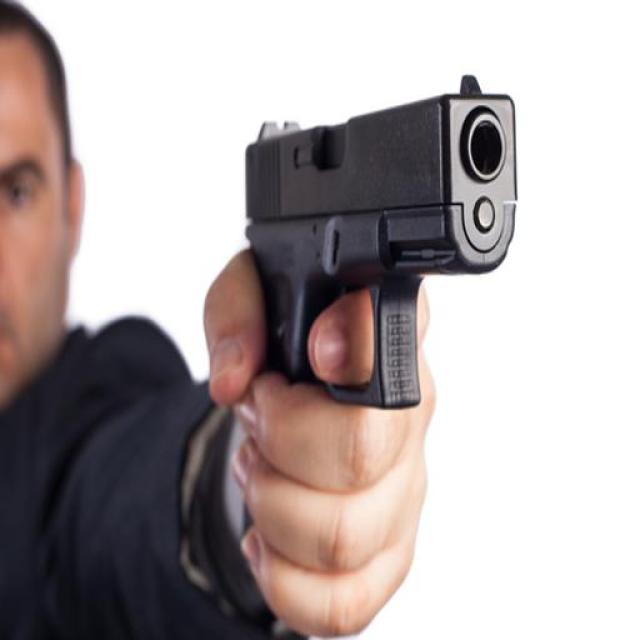pistol: (242, 66, 521, 545)
